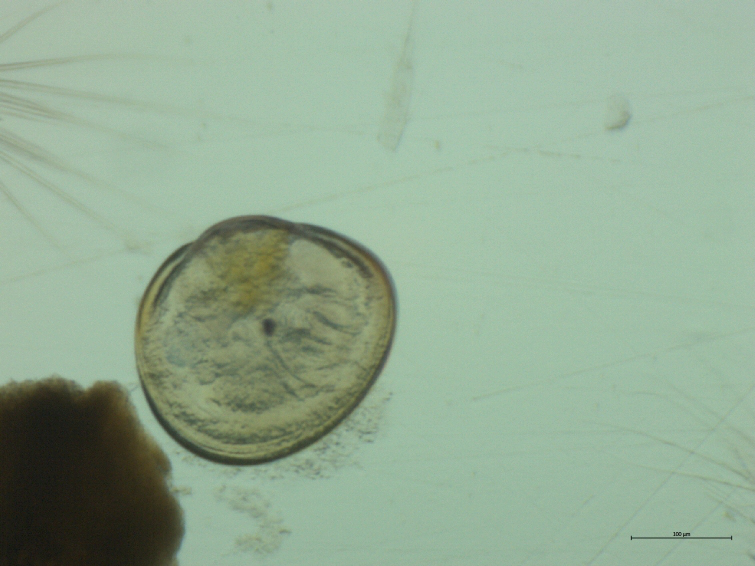oyster: (123, 199, 407, 480)
